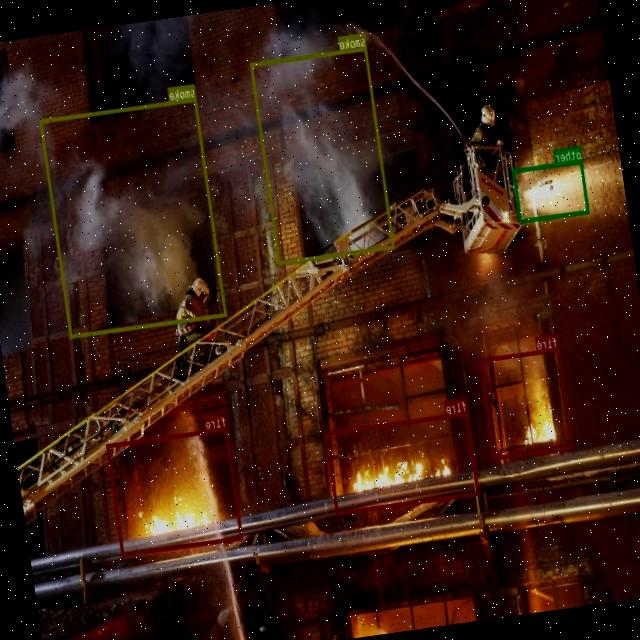fire: (106, 426, 244, 556), (326, 412, 480, 514), (479, 346, 574, 459)
smoke: (40, 96, 228, 338), (250, 46, 396, 264)
